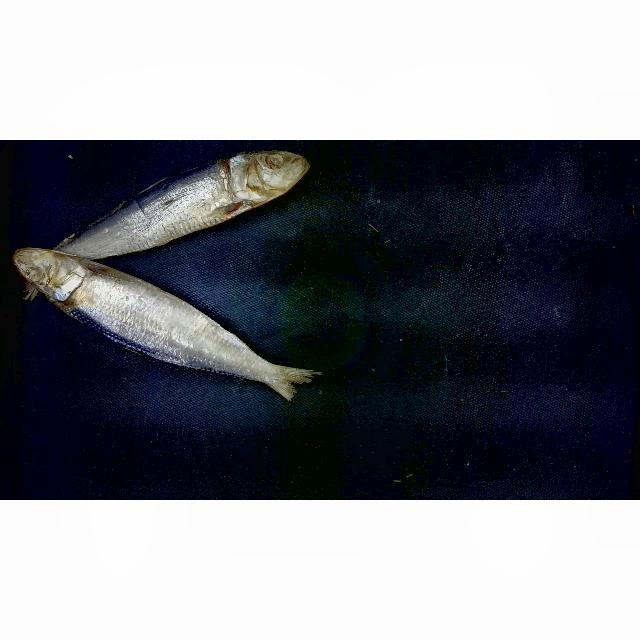Grade_A_Body: (96, 256, 229, 392), (100, 170, 229, 257)
Grade_A_Head: (224, 146, 321, 215), (9, 235, 90, 315)
Grade_A_Tail: (233, 319, 332, 431)
